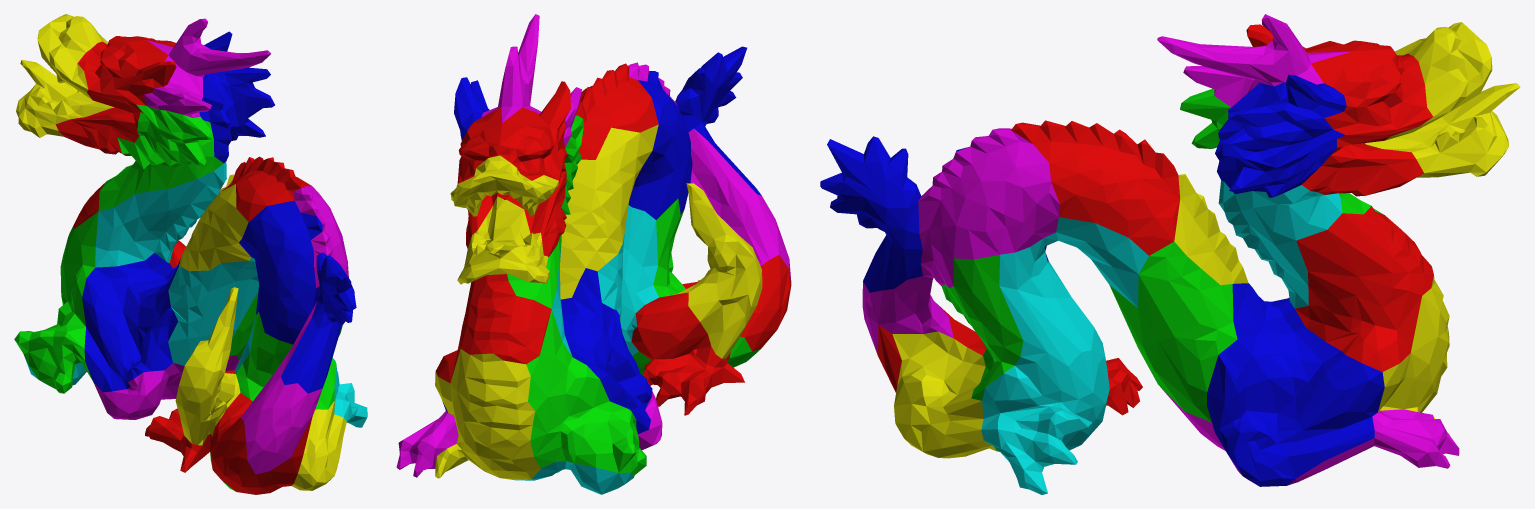
Rendered from Dragon_80K_4.fbx.
3 views of the same model, side by side, from view 1: azimuth 30°, elevation 25°; view 2: azimuth 150°, elevation 25°; view 3: azimuth 270°, elevation 25° (orthographic). The views are drawn at different scales.
Size of the model in its own units: 0.4474 by 0.7047 by 1.
